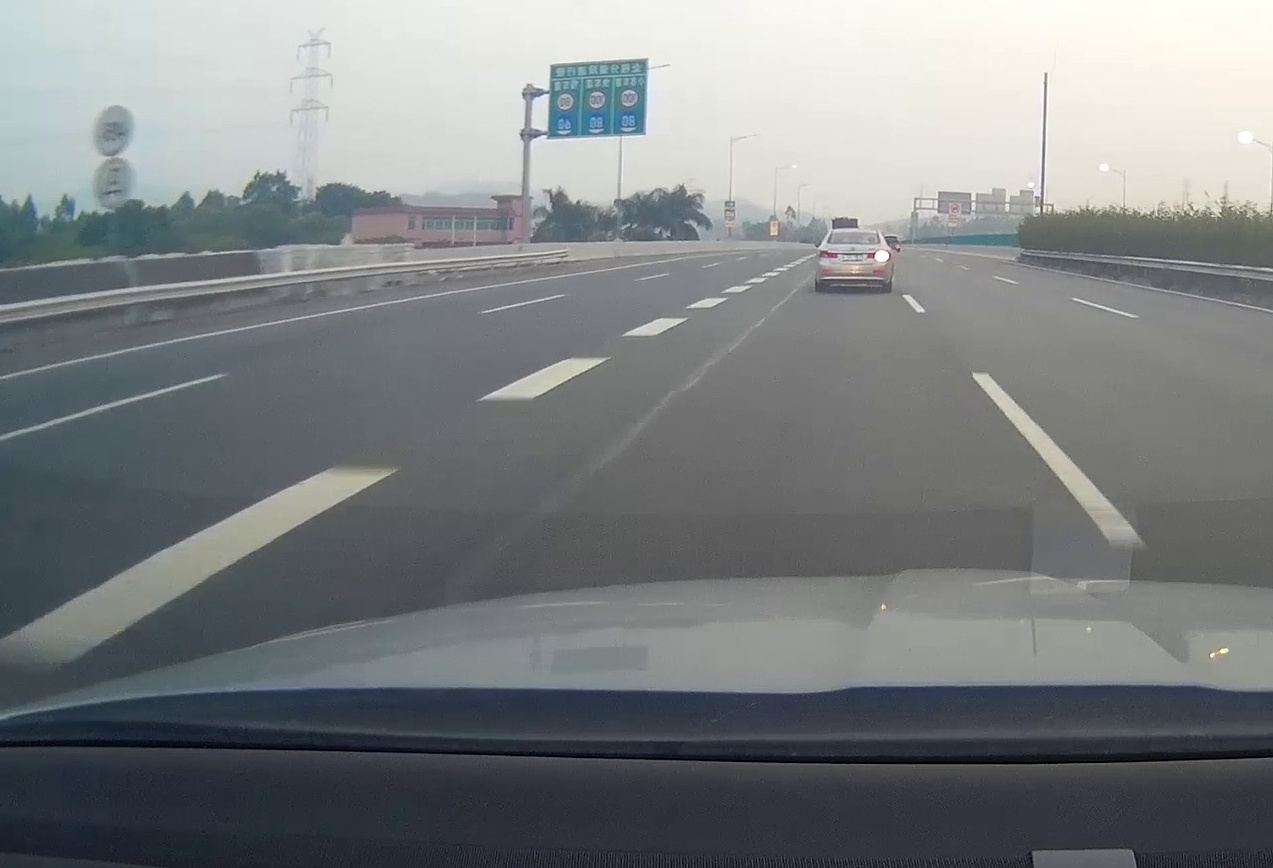L_light: (817, 250, 838, 258)
R_light: (867, 251, 890, 259)
T_light: (852, 231, 861, 233)
day-right: (816, 228, 893, 293)
